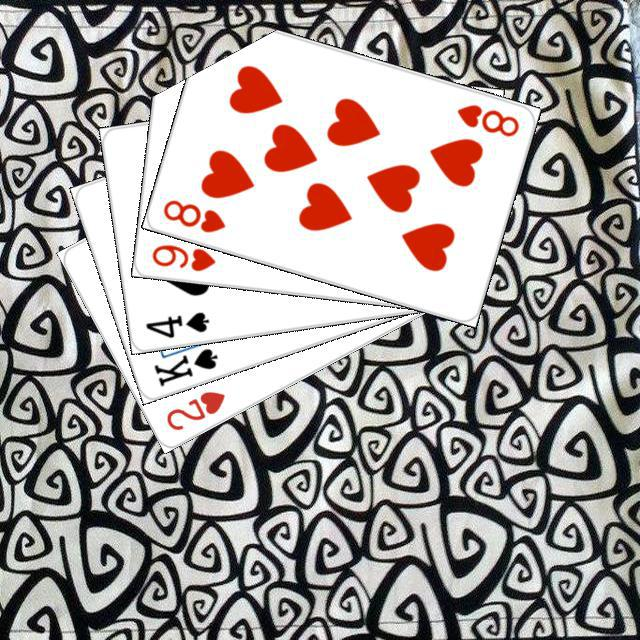2h: (161, 385, 227, 432)
4s: (140, 306, 211, 340)
8h: (158, 194, 227, 235), (452, 99, 521, 139)
9h: (147, 239, 218, 273)
Ks: (148, 343, 220, 388)
